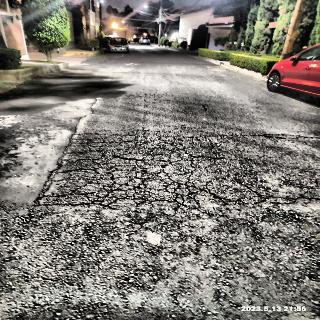alligator-crack: (56, 95, 226, 262)
